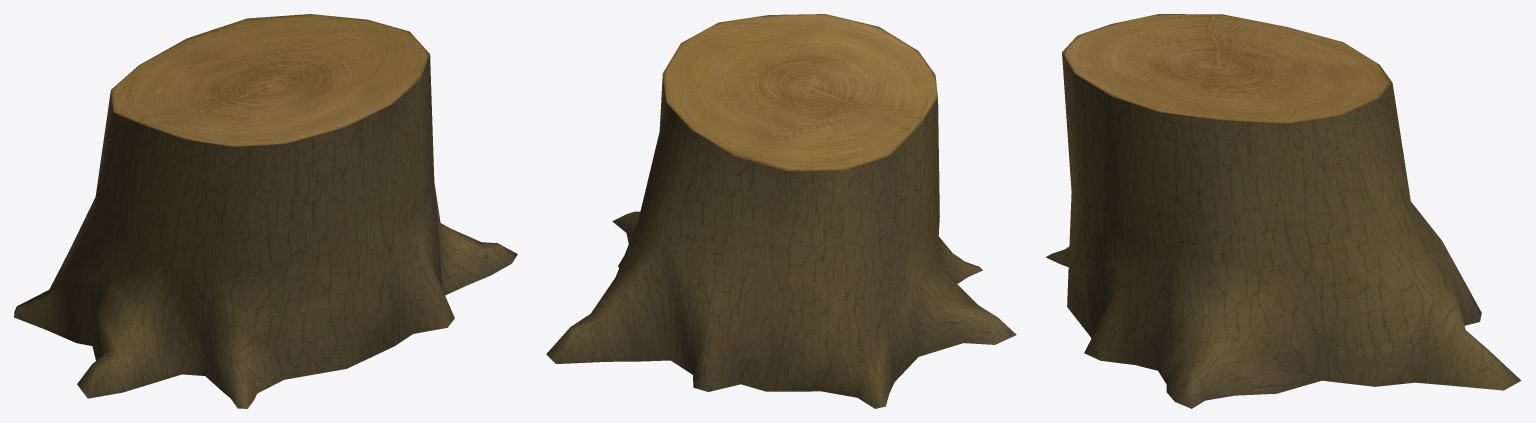
3 views of the same model, side by side, from view 1: azimuth 30°, elevation 25°; view 2: azimuth 150°, elevation 25°; view 3: azimuth 270°, elevation 25° (orthographic). The views are drawn at different scales.
Parts seen in each view (by area): view 1: Joint_0_Object_0, Joint_0_Object_1; view 2: Joint_0_Object_0, Joint_0_Object_1; view 3: Joint_0_Object_0, Joint_0_Object_1.
Part boxes in pixels (left/top/right/bottom): Joint_0_Object_0: left=14, top=55, right=517, bottom=408; Joint_0_Object_1: left=111, top=14, right=429, bottom=146; Joint_0_Object_0: left=546, top=74, right=1016, bottom=408; Joint_0_Object_1: left=663, top=14, right=937, bottom=171; Joint_0_Object_0: left=1045, top=53, right=1521, bottom=408; Joint_0_Object_1: left=1062, top=14, right=1392, bottom=123.
Size of the model in its own units: 1643 by 991 by 1484.
2 materials, 2 textured.
